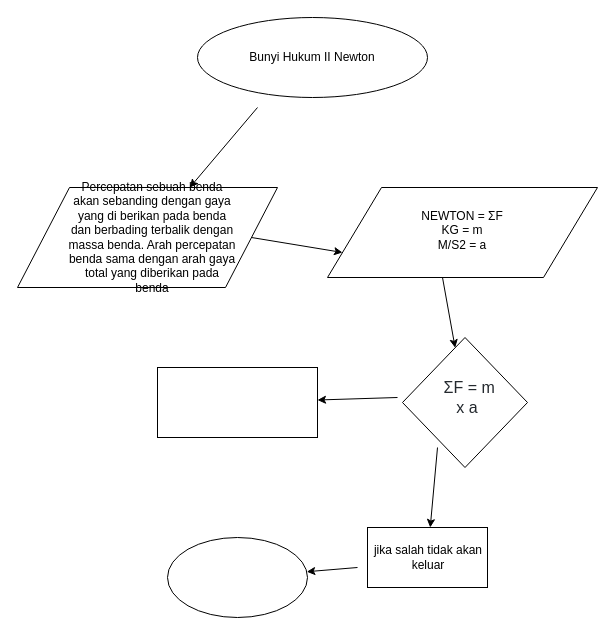
This 615x635 diagram has some shape labels left out. Here are the shapes that lost their labels. From the top down, the centre of each, then its label:
At [237,402]: "Jika hasil benar maka akan keluar hasilnya".
At [237,577]: "end".
